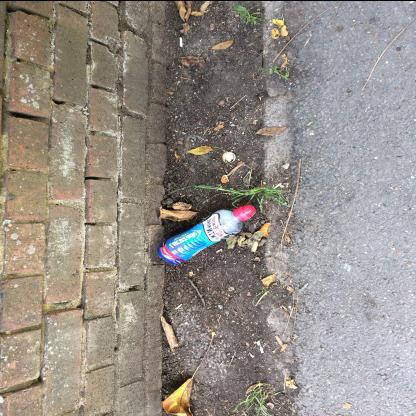plastik: (159, 205, 258, 265)
